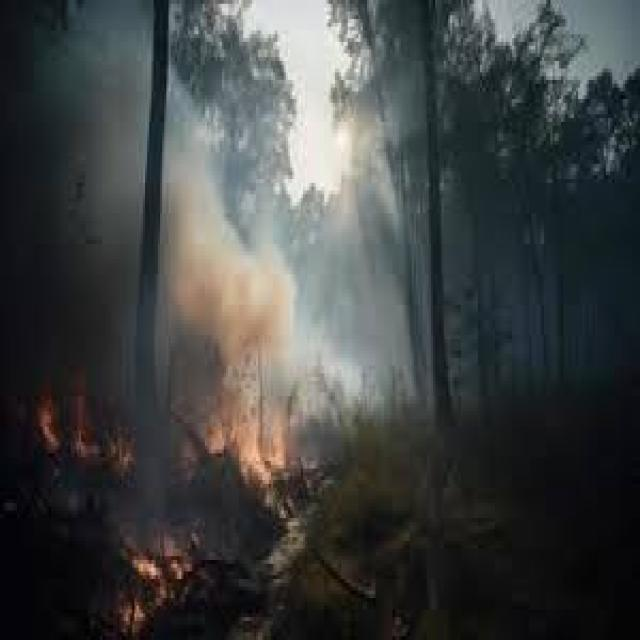Fire: (5, 380, 146, 490), (185, 391, 303, 511), (104, 534, 192, 630)
Smoke: (0, 0, 380, 502), (170, 85, 367, 472), (168, 155, 414, 400), (0, 0, 131, 333), (175, 100, 299, 352)
